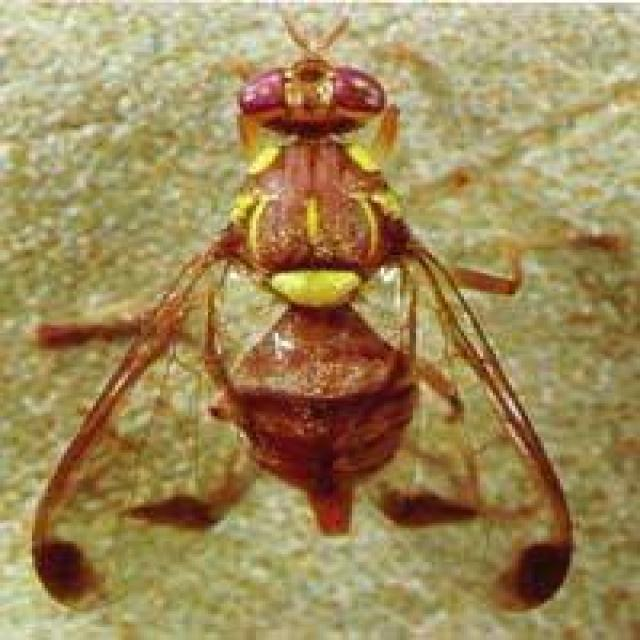Fruit fly: (17, 10, 640, 621)
